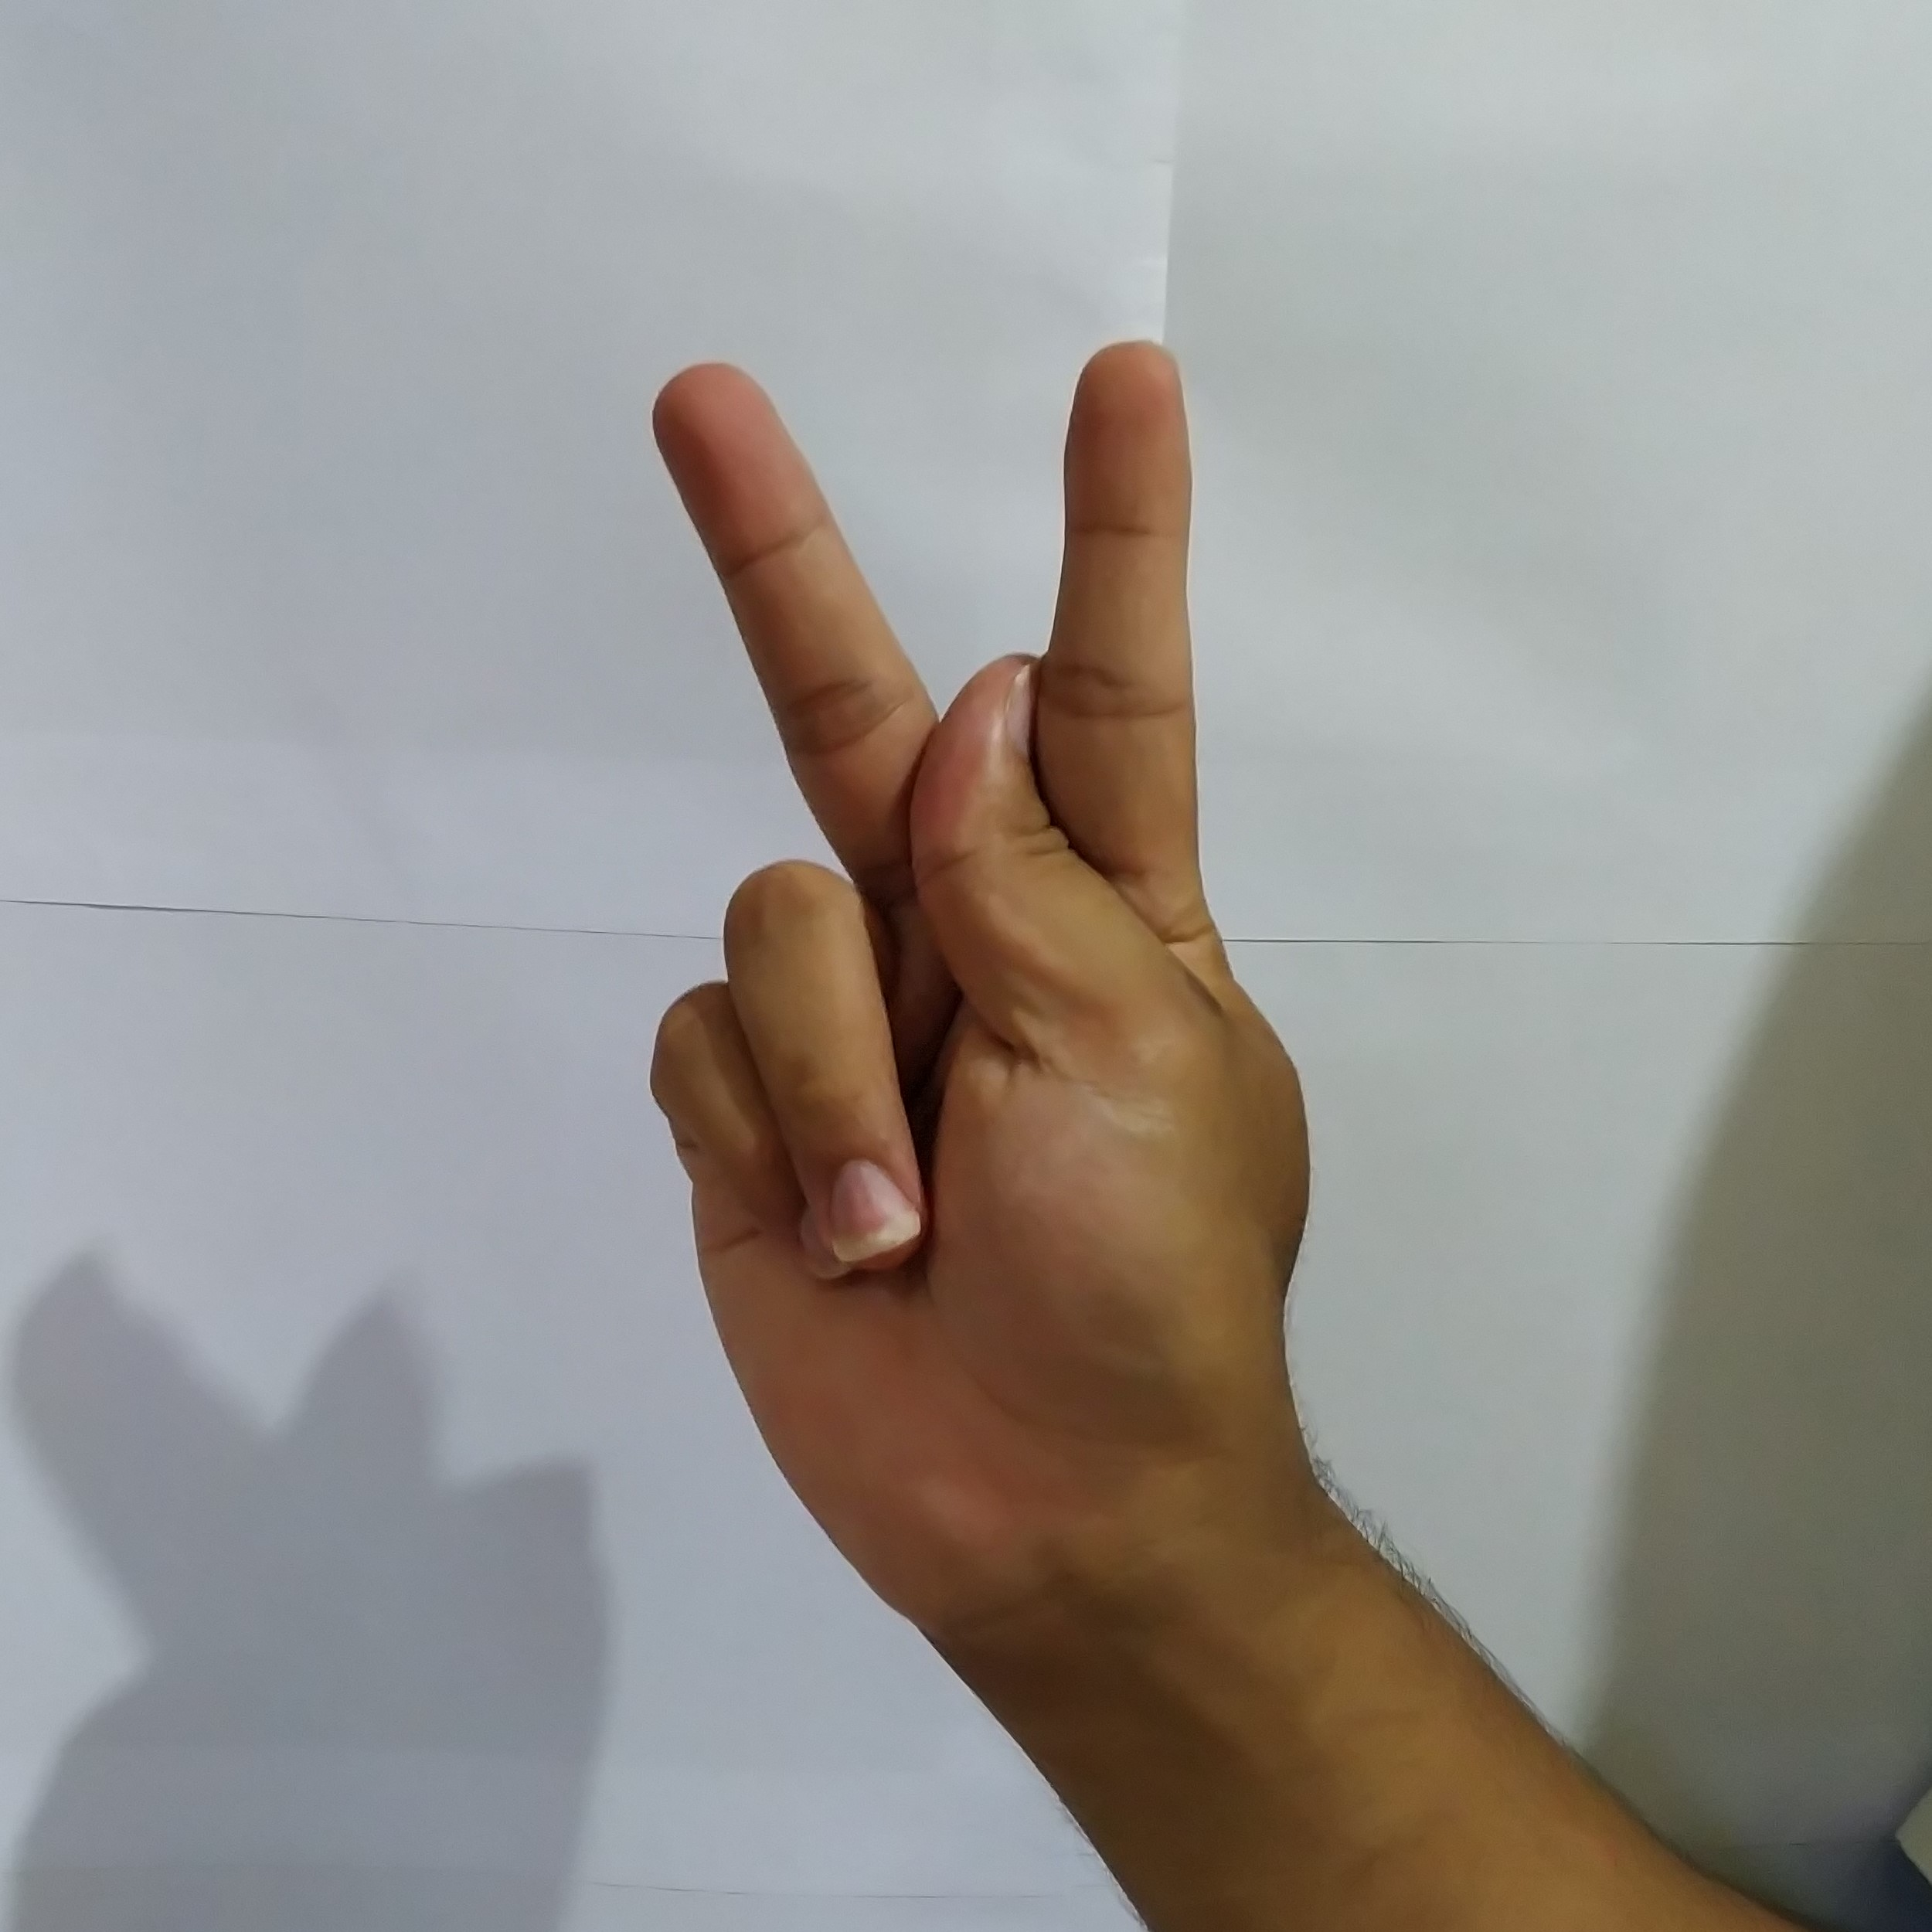K: (616, 308, 1336, 1514)
